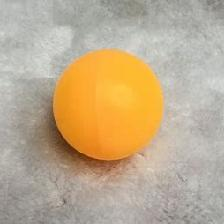YellowBall: (53, 48, 162, 159)
